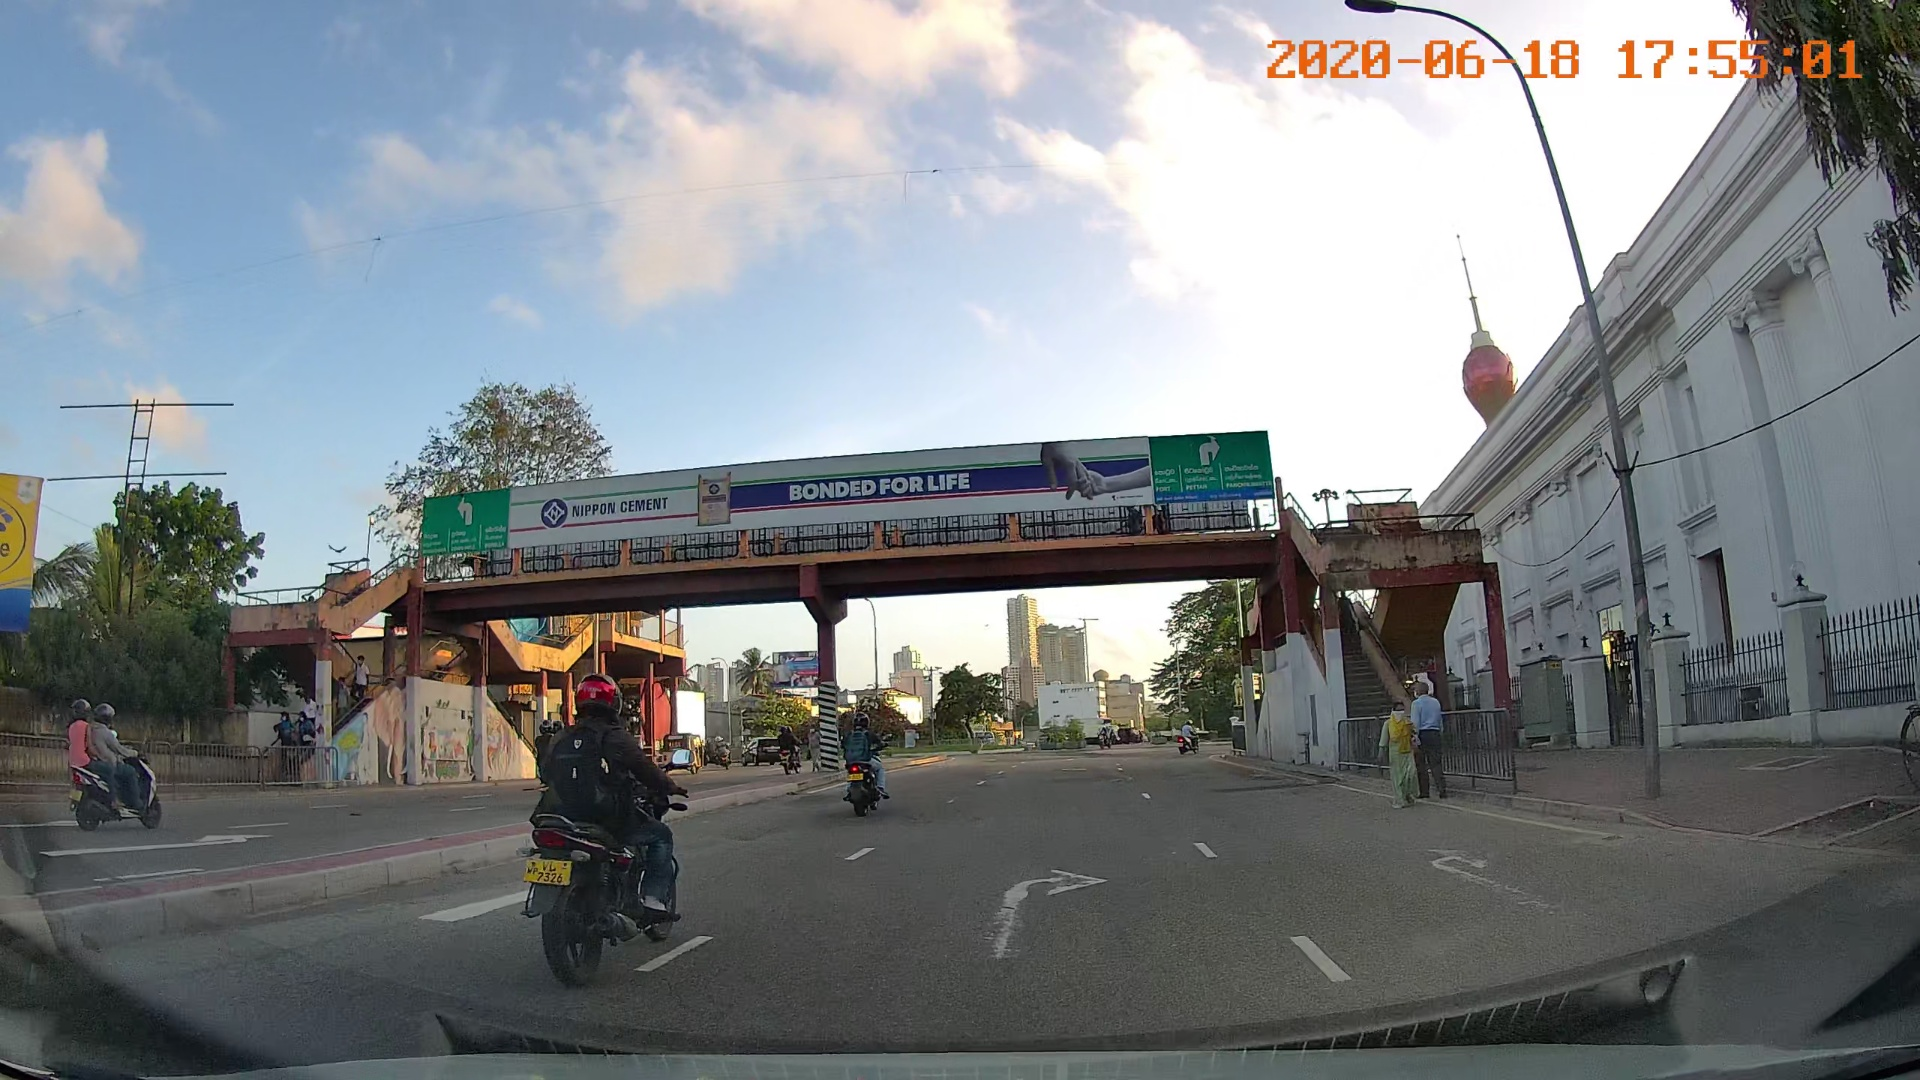left arrow: (36, 829, 277, 868)
right arrow: (986, 848, 1112, 989), (1400, 848, 1578, 927)
